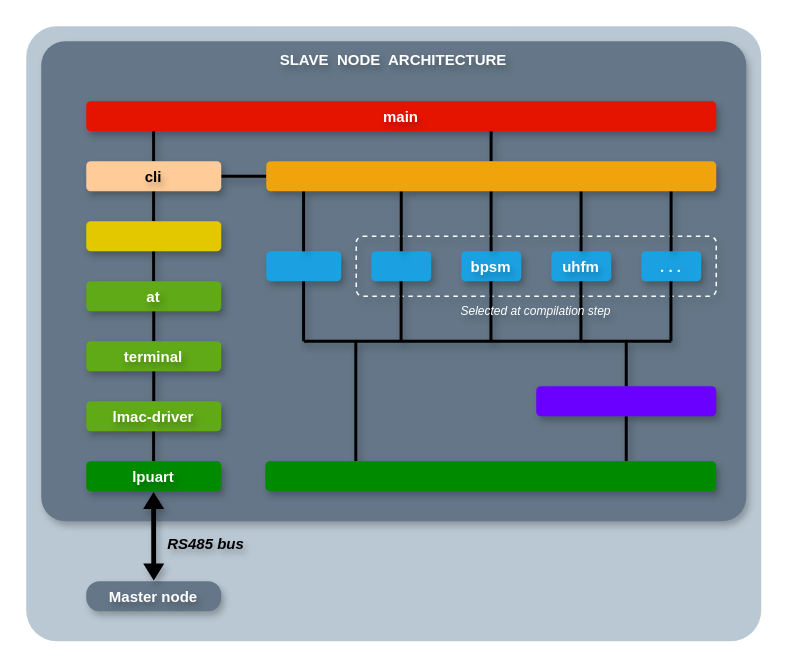
Image size: 786x666. Some labels were removed from this diagram. Here are the shapes that lost their labels. From the top down, the centre of each, then its label:
At (x=492, y=177): "node".
At (x=155, y=237): "una-at".
At (x=305, y=267): "common".
At (x=402, y=267): "lvrm".
At (x=627, y=403): "components".
At (x=491, y=477): "peripherals".
